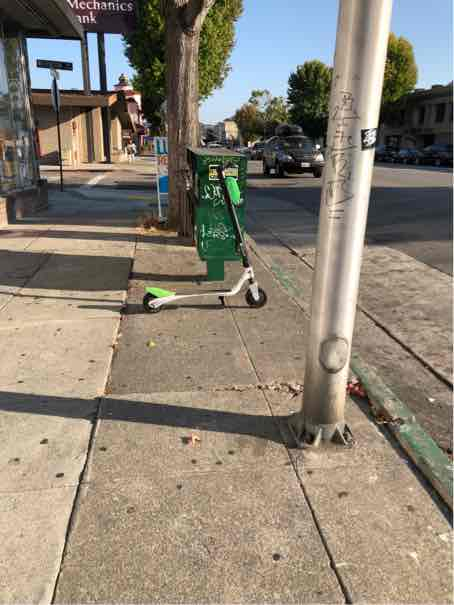scooter: (124, 169, 273, 321)
